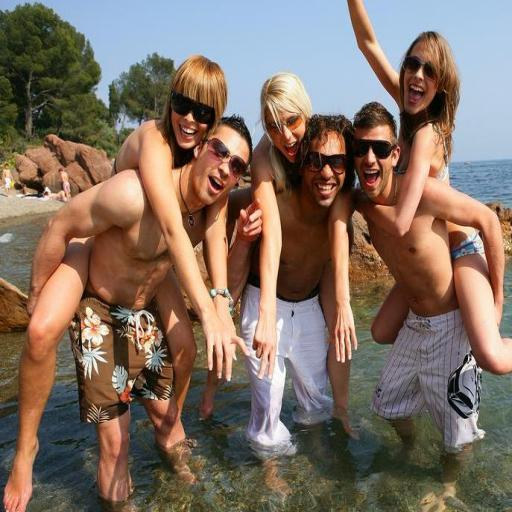person: (33, 171, 195, 501), (368, 178, 504, 499), (229, 115, 354, 458), (115, 56, 235, 368), (348, 0, 459, 235), (252, 72, 312, 378), (59, 168, 71, 201), (2, 164, 12, 197)
